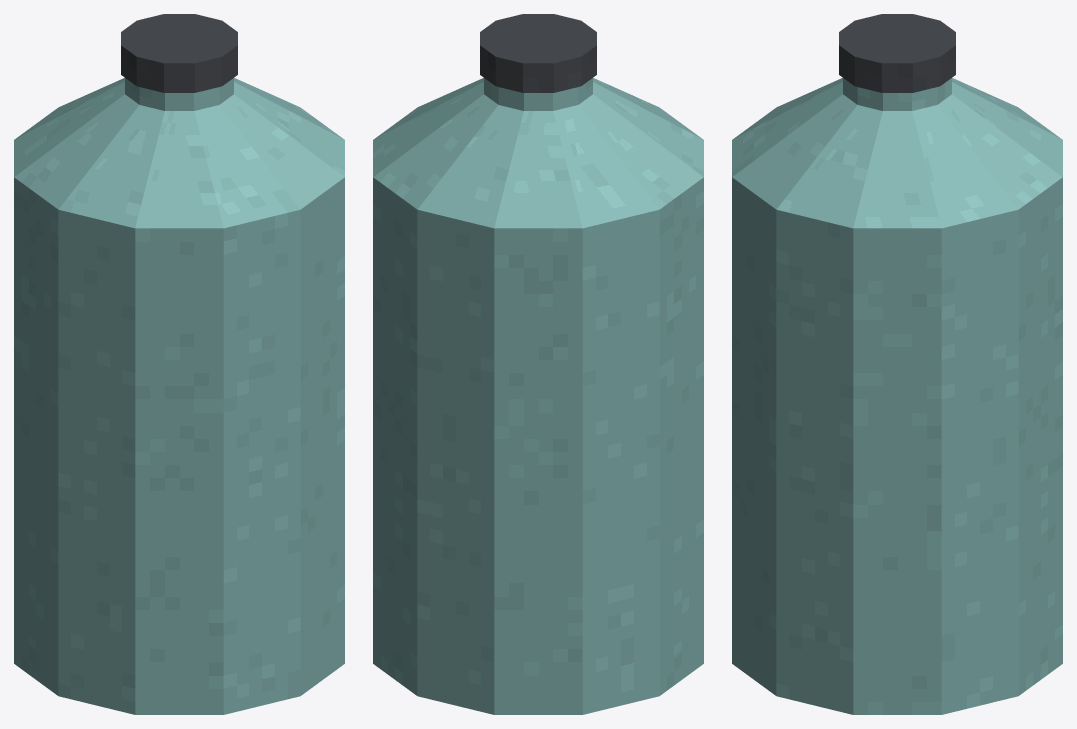
Rendered from bottle_plastic_glue.glb.
The picture shows the model from 3 angles, left to right: view 1: azimuth 30°, elevation 25°; view 2: azimuth 150°, elevation 25°; view 3: azimuth 270°, elevation 25°; orthographic projection.
Parts seen in each view (by area): view 1: block_walls, block_shoulder, block_rim or cap, block_neck, block_foot; view 2: block_walls, block_shoulder, block_rim or cap, block_neck, block_foot; view 3: block_walls, block_shoulder, block_rim or cap, block_neck, block_foot.
Part boxes in pixels (x1,y1,x2,y2): block_walls: [14, 177, 344, 714]; block_shoulder: [14, 78, 344, 228]; block_rim or cap: [121, 14, 237, 92]; block_neck: [125, 78, 233, 110]; block_foot: [14, 634, 344, 714]; block_walls: [373, 177, 703, 714]; block_shoulder: [373, 78, 703, 228]; block_rim or cap: [480, 14, 596, 92]; block_neck: [484, 78, 592, 110]; block_foot: [373, 634, 703, 714]; block_walls: [732, 177, 1062, 714]; block_shoulder: [732, 78, 1062, 228]; block_rim or cap: [839, 14, 955, 92]; block_neck: [843, 78, 951, 110]; block_foot: [732, 634, 1062, 714].
Size of the model in its own units: 0.1087 by 0.22 by 0.1087.
Materials: 1 (1 with a texture image).
